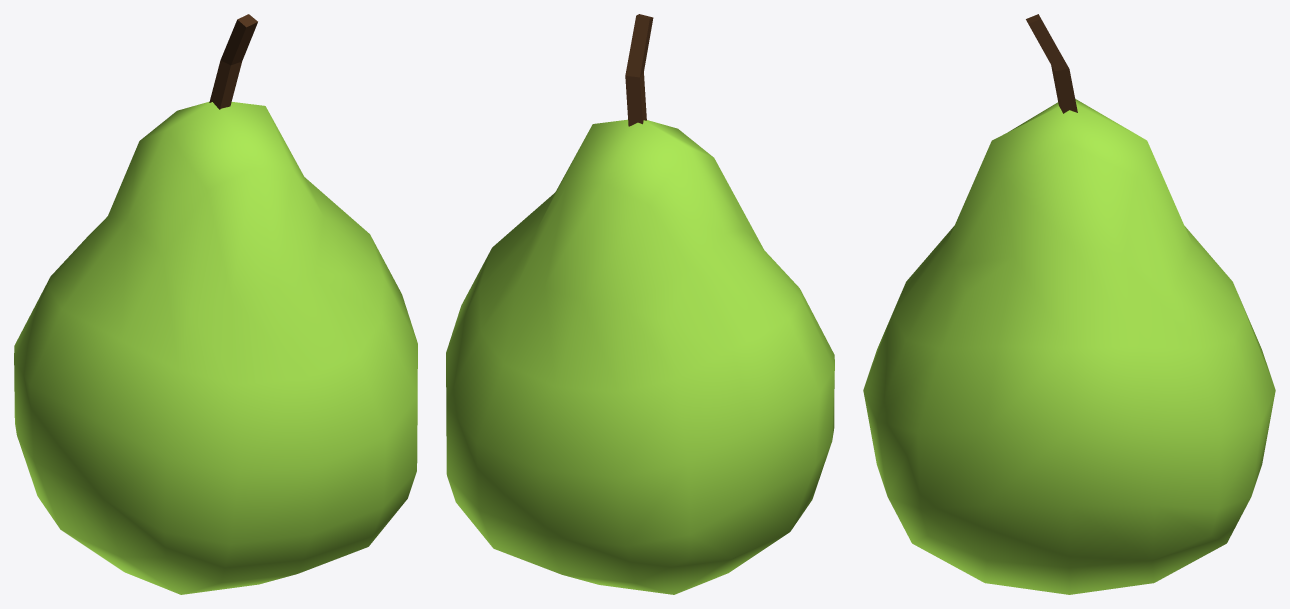
The model's file is FruitPear.fbx.
3 renders of one model, left to right at view 1: azimuth 30°, elevation 25°; view 2: azimuth 150°, elevation 25°; view 3: azimuth 270°, elevation 25°, orthographic. The views are drawn at different scales.
Visible parts, largest first — view 1: FruitPear; view 2: FruitPear; view 3: FruitPear.
Part boxes in pixels (box(x1,y1,x2,y2)): FruitPear: box(14, 14, 417, 594); FruitPear: box(446, 14, 834, 594); FruitPear: box(863, 14, 1275, 594).
Size of the model in its own units: 15.67 by 22.16 by 15.07.
